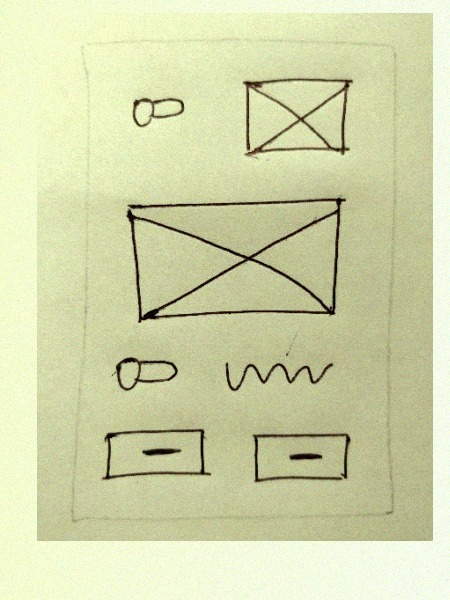button: (100, 419, 212, 486), (243, 425, 356, 490)
image: (119, 193, 348, 330), (233, 71, 360, 163)
switch: (122, 87, 194, 137), (107, 347, 181, 395)
text: (215, 351, 338, 404)
